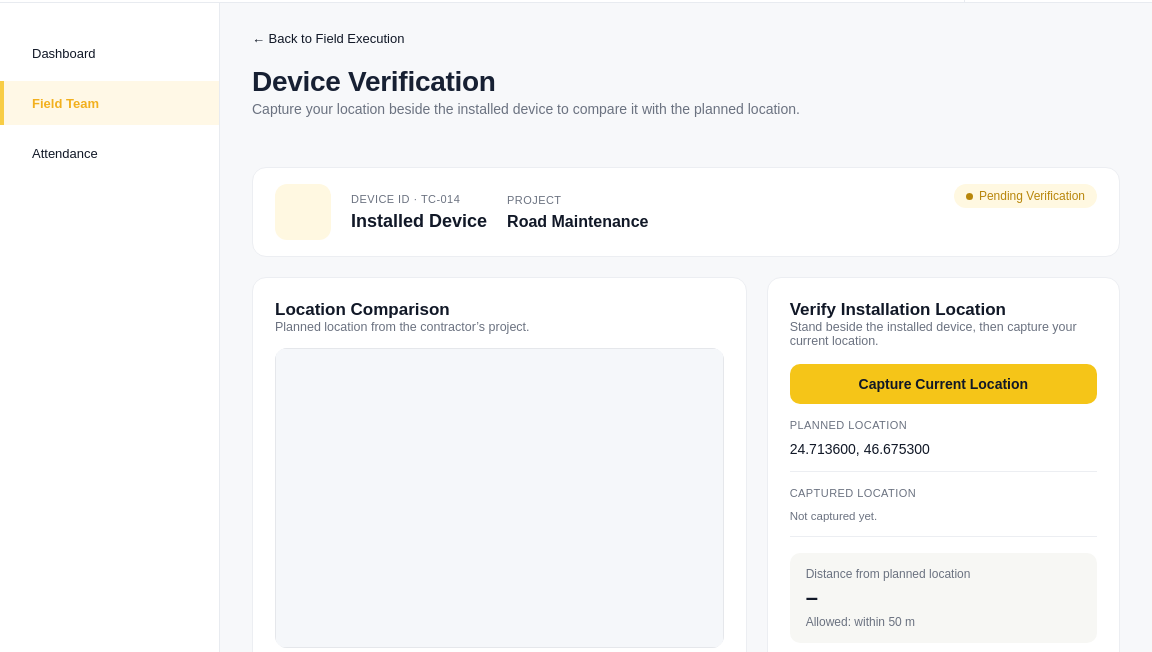
Test: Field Worker DeviceVerification › shows location errors and keeps saving disabled
Click the button "Capture Current Location" at (943, 384), box [790, 364, 1097, 404]
(page scrolled)
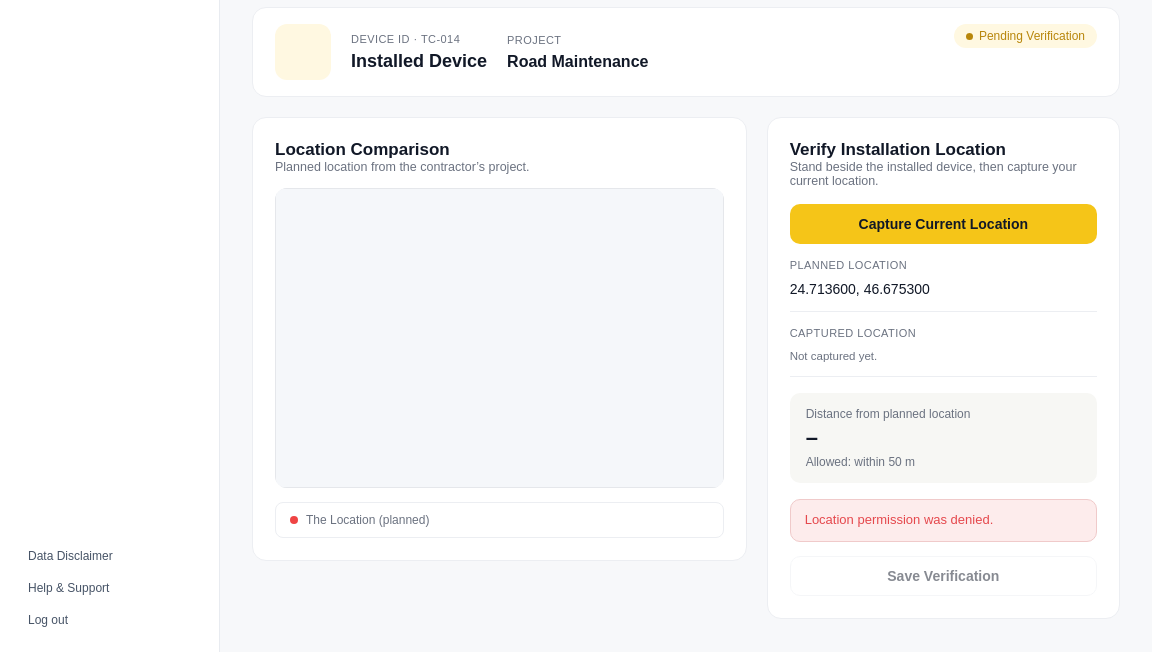
Expected: the button "Save Verification" is disabled, [790, 556, 1097, 596]
Result: the message reads "Location permission was denied." at [805, 512, 993, 527]
